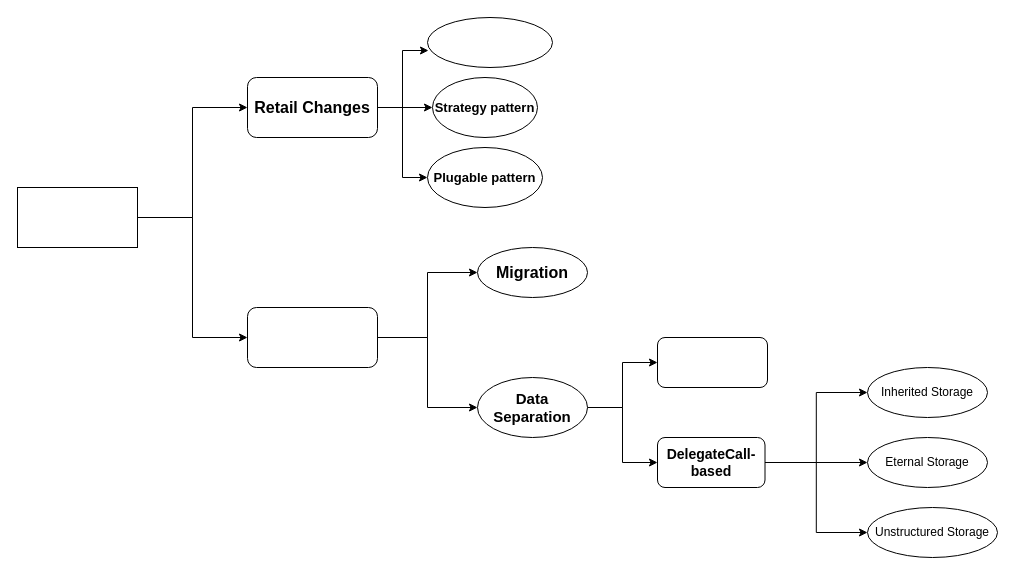
This 1015x575 diagram has some shape labels left out. The centre of each missing label's shape, as x and y in pixels:
Call-based: pixel 712 362
Function parameter: pixel 489 42
Upgrades: pixel 77 217
Wholesale Change: pixel 312 337
